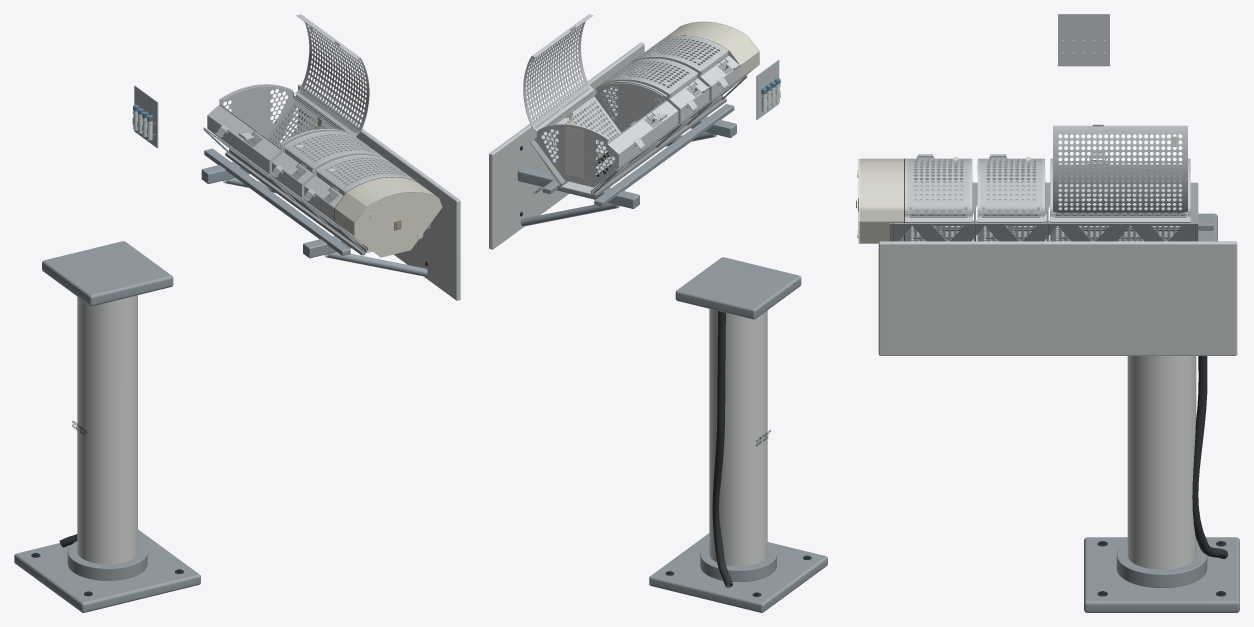
File: melfi_v6.glb
3 renders of one model, left to right at view 1: azimuth 30°, elevation 25°; view 2: azimuth 150°, elevation 25°; view 3: azimuth 270°, elevation 25°, orthographic. The views are drawn at different scales.
Visible parts, largest first — view 1: Floor pedestal support column, Floor pedestal base plate, Floor pedestal upper mounting flange, Benchmark tray adapter wall plate, MELFI_Rear_half_box_curved_perforated_lid, MELFI_Rear_half_box, MELFI_Front_insulation_face_skin, MELFI_Front_insulation_foam, Benchmark tray adapter cross rail, MELFI_Middle_quarter_box_curved_perforated_lid, MELFI_Front_quarter_box_curved_perforated_lid, Floor pedestal lower collar (+6 smaller); view 2: Floor pedestal support column, Benchmark tray adapter wall plate, Floor pedestal base plate, Floor pedestal upper mounting flange, MELFI_Rear_half_box, MELFI_Rear_half_box_curved_perforated_lid, Floor pedestal cable loom, MELFI_Front_insulation_foam, MELFI_Rear_half_box_perforated_end_-1, Benchmark tray adapter cross rail, MELFI_Middle_quarter_box_curved_perforated_lid, MELFI_Front_quarter_box_curved_perforated_lid (+10 smaller); view 3: Benchmark tray adapter wall plate, Floor pedestal support column, MELFI_Rear_half_box_curved_perforated_lid, Floor pedestal base plate, MELFI_Tray_right_triangular_carrier, MELFI_Front_insulation_foam, MELFI_Middle_quarter_box_curved_perforated_lid, MELFI_Front_quarter_box_curved_perforated_lid, MELFI_VialCard_aluminium_plate, MELFI_Rear_half_box, Floor pedestal lower collar, Floor pedestal cable loom (+7 smaller).
Part boxes in pixels (<box>): Floor pedestal support column: <box>77,295,137,564</box>; Floor pedestal base plate: <box>14,529,200,612</box>; Floor pedestal upper mounting flange: <box>42,241,173,306</box>; Benchmark tray adapter wall plate: <box>298,84,460,300</box>; MELFI_Rear_half_box_curved_perforated_lid: <box>295,22,369,136</box>; MELFI_Rear_half_box: <box>207,84,341,174</box>; MELFI_Front_insulation_face_skin: <box>355,192,442,256</box>; MELFI_Front_insulation_foam: <box>334,177,435,253</box>; Benchmark tray adapter cross rail: <box>204,148,350,255</box>; MELFI_Middle_quarter_box_curved_perforated_lid: <box>285,132,382,167</box>; MELFI_Front_quarter_box_curved_perforated_lid: <box>317,156,414,191</box>; Floor pedestal lower collar: <box>67,541,147,580</box>; Floor pedestal support column: <box>709,309,767,566</box>; Benchmark tray adapter wall plate: <box>489,42,644,249</box>; Floor pedestal base plate: <box>649,533,827,612</box>; Floor pedestal upper mounting flange: <box>675,257,801,319</box>; MELFI_Rear_half_box: <box>534,91,678,186</box>; MELFI_Rear_half_box_curved_perforated_lid: <box>523,21,593,131</box>; Floor pedestal cable loom: <box>712,311,732,587</box>; MELFI_Front_insulation_foam: <box>662,22,759,87</box>; MELFI_Rear_half_box_perforated_end_-1: <box>594,82,666,132</box>; Benchmark tray adapter cross rail: <box>594,104,734,206</box>; MELFI_Middle_quarter_box_curved_perforated_lid: <box>603,59,696,93</box>; MELFI_Front_quarter_box_curved_perforated_lid: <box>634,36,727,70</box>; Benchmark tray adapter wall plate: <box>878,241,1237,355</box>; Floor pedestal support column: <box>1127,356,1196,569</box>; MELFI_Rear_half_box_curved_perforated_lid: <box>1053,127,1187,213</box>; Floor pedestal base plate: <box>1084,537,1239,612</box>; MELFI_Tray_right_triangular_carrier: <box>889,223,1198,241</box>; MELFI_Front_insulation_foam: <box>859,158,903,243</box>; MELFI_Middle_quarter_box_curved_perforated_lid: <box>980,158,1042,213</box>; MELFI_Front_quarter_box_curved_perforated_lid: <box>907,158,969,213</box>; MELFI_VialCard_aluminium_plate: <box>1058,14,1109,66</box>; MELFI_Rear_half_box: <box>1050,158,1190,221</box>; Floor pedestal lower collar: <box>1116,543,1207,587</box>; Floor pedestal cable loom: <box>1192,356,1228,558</box>.
Size of the model in its own units: 0.7209 by 1.21 by 0.7388.
